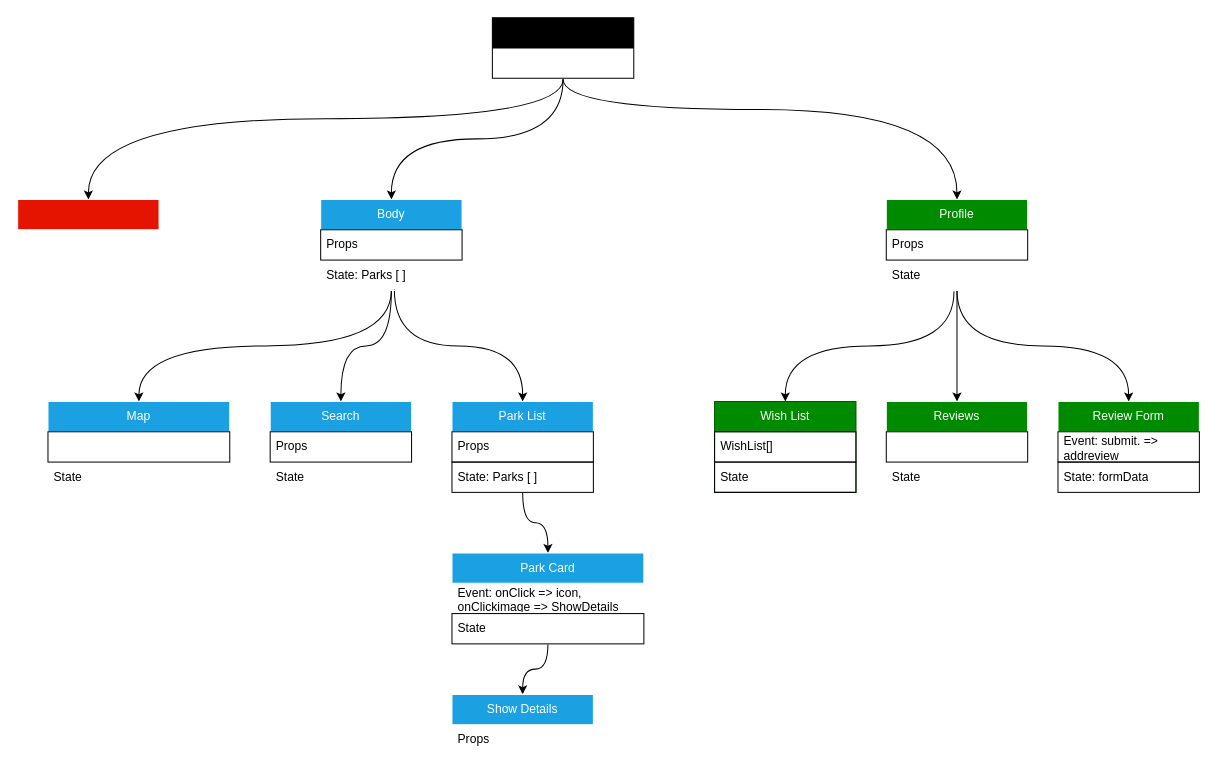
Image size: 1217x773. Some labels were removed from this diagram. Each missing label, with the centre of its shape:
Event: onClick nav to National Park State: pixel 138 446
Header: pixel 88 229
Review[]: pixel 956 446
